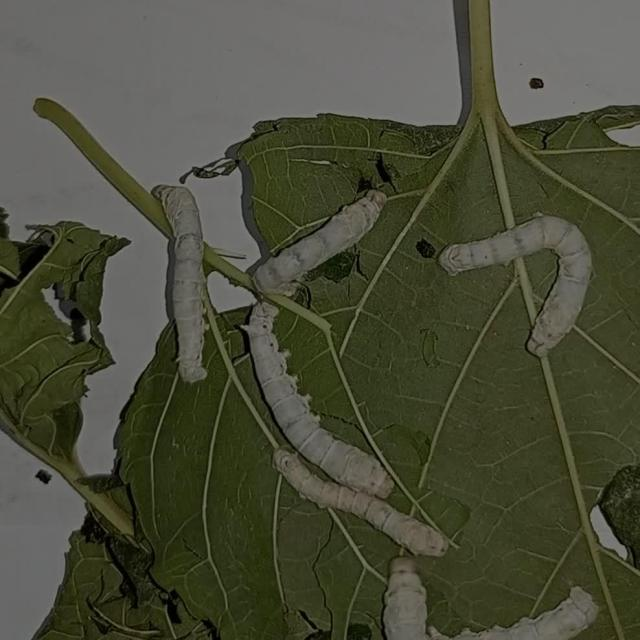Healthy: (428, 198, 618, 385), (146, 158, 217, 388)
